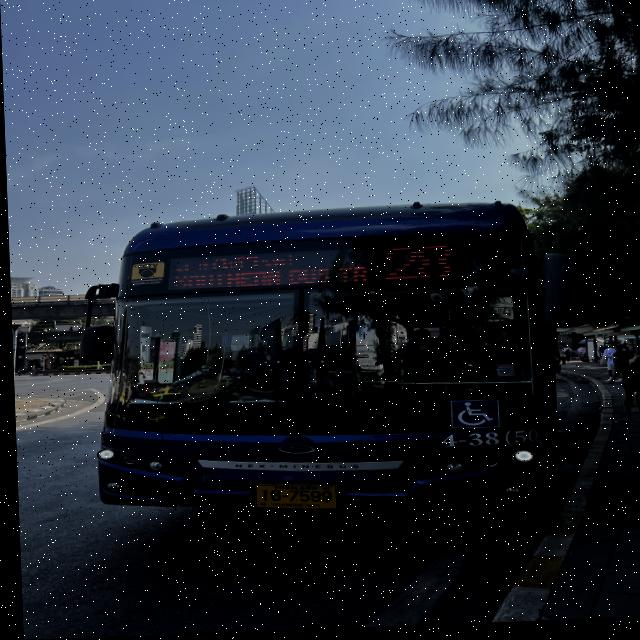Bus Line Number: (374, 243, 463, 288)
Bus Side Number: (435, 431, 542, 454)
Destination Sign: (161, 247, 367, 295)
TSB-Bus: (92, 207, 587, 519)
